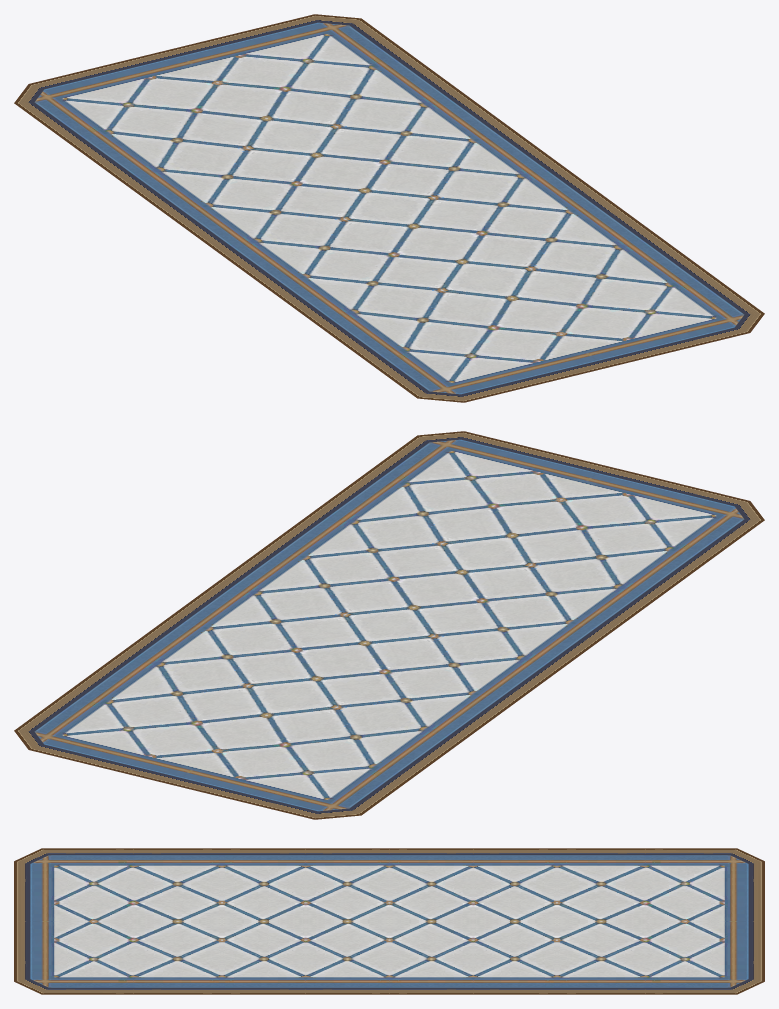
The model's file is my_trinityclassroom_01_carpet_04.glb.
The picture shows the model from 3 angles, top to bottom: view 1: azimuth 30°, elevation 25°; view 2: azimuth 150°, elevation 25°; view 3: azimuth 270°, elevation 25°; orthographic projection. The views are drawn at different scales.
Parts seen in each view (by area): view 1: my_trinityclassroom_01_carpet_04; view 2: my_trinityclassroom_01_carpet_04; view 3: my_trinityclassroom_01_carpet_04.
Part boxes in pixels (x1,y1,x2,y2): my_trinityclassroom_01_carpet_04: (14,14,764,402); my_trinityclassroom_01_carpet_04: (14,431,764,819); my_trinityclassroom_01_carpet_04: (14,848,764,994).
Bounding box in the file's own units: 0.00781 × 0 × 0.017.
Materials: 1 (1 with a texture image).
